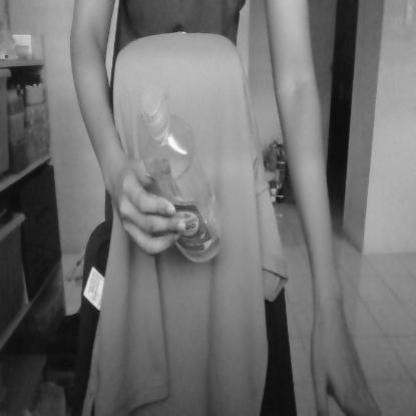Plastic Bottle: (136, 80, 227, 270)
